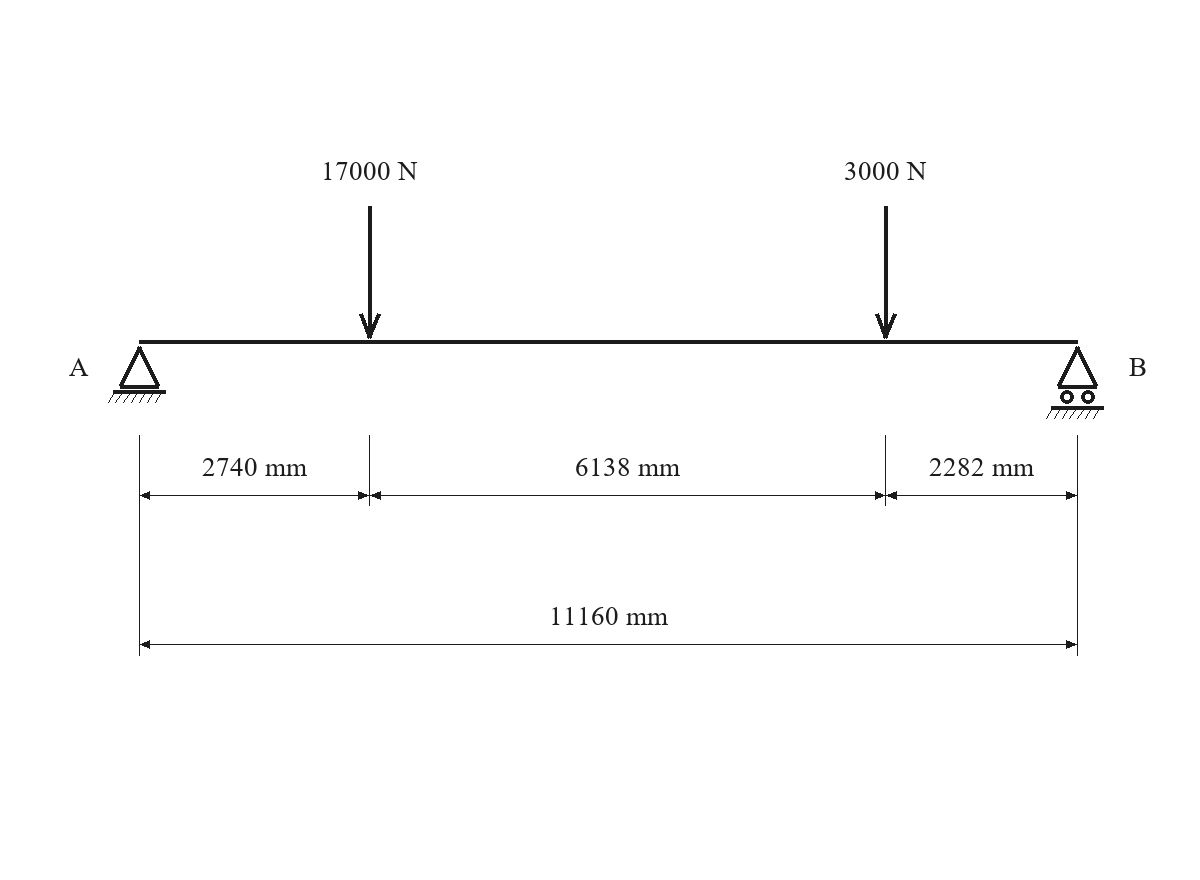pin_support: (108, 346, 166, 403)
point_load: (359, 206, 381, 339), (875, 206, 897, 339)
roller_support: (1046, 346, 1104, 419)
